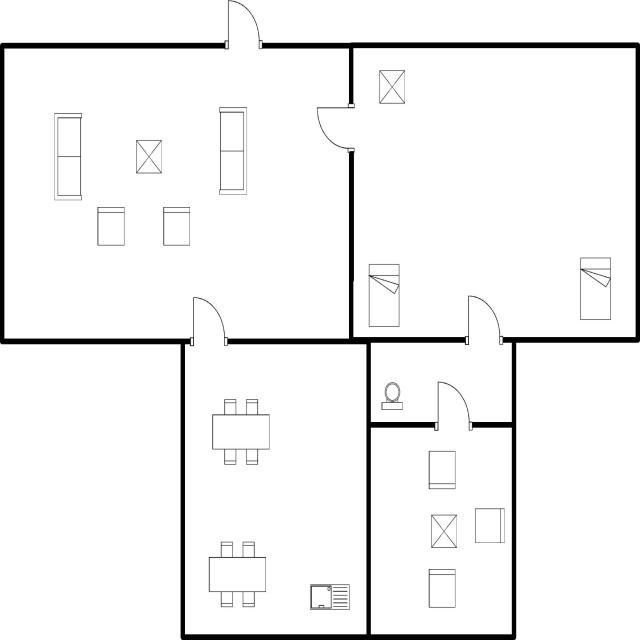bed: (365, 258, 403, 331), (576, 253, 615, 324)
coffee_table: (131, 136, 165, 180), (428, 510, 461, 553), (377, 67, 409, 110)
dining_table: (209, 394, 275, 469), (205, 536, 270, 610)
large_sink: (377, 378, 408, 416)
large_sofa: (216, 103, 251, 199), (52, 109, 85, 205)
sink: (306, 579, 353, 615)
small_sofa: (424, 564, 460, 612), (94, 201, 129, 250), (424, 444, 458, 494), (470, 504, 508, 548), (160, 204, 194, 249)
